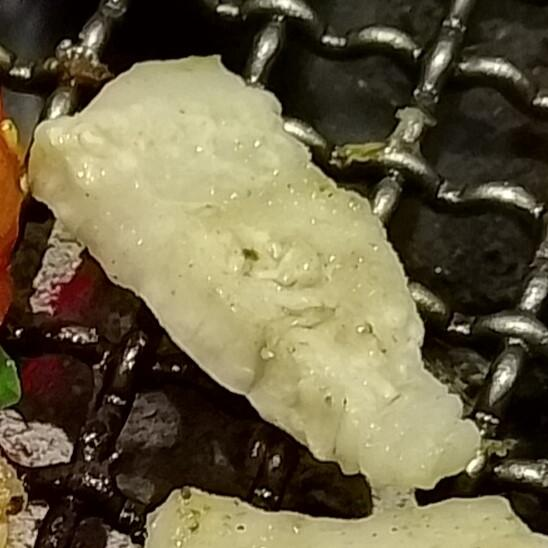Undercooked: (27, 55, 482, 508), (142, 485, 547, 547)
